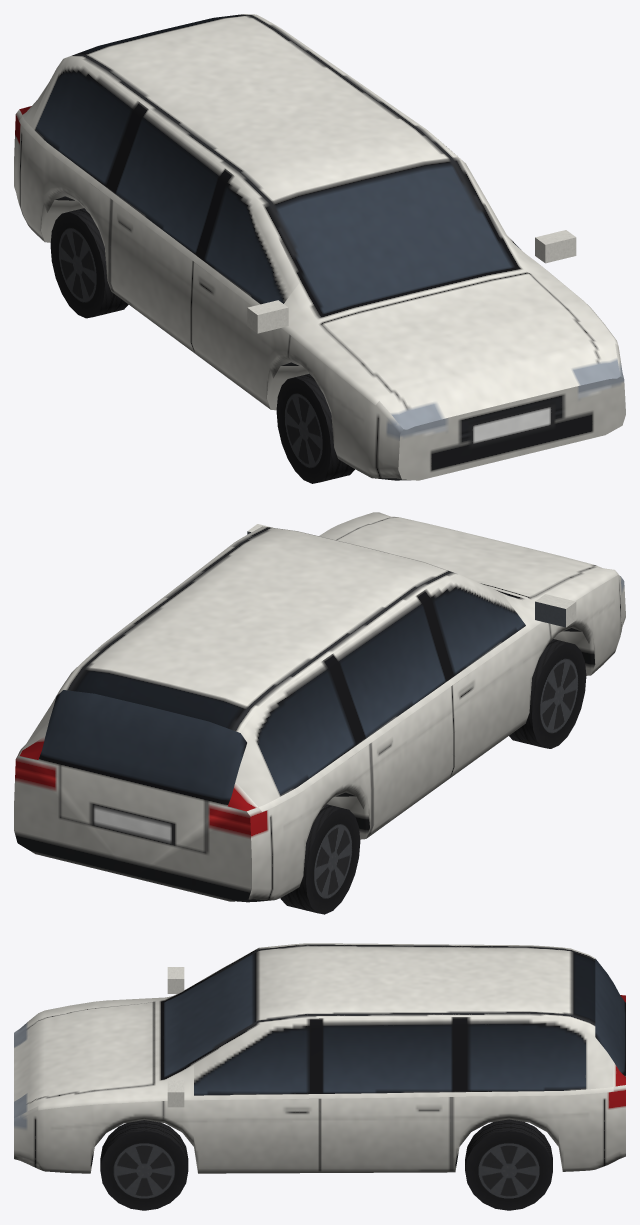
File: SM_Morin_Auto_C_Col_v2_BiancoPerla.fbx
3 renders of one model, top to bottom at view 1: azimuth 30°, elevation 25°; view 2: azimuth 150°, elevation 25°; view 3: azimuth 270°, elevation 25°, orthographic. The views are drawn at different scales.
Visible parts, largest first — view 1: SM_Morin_Auto_C_Col_v2_BiancoPerla; view 2: SM_Morin_Auto_C_Col_v2_BiancoPerla; view 3: SM_Morin_Auto_C_Col_v2_BiancoPerla.
Part boxes in pixels (x1,y1,x2,y2): SM_Morin_Auto_C_Col_v2_BiancoPerla: (14,14,625,483); SM_Morin_Auto_C_Col_v2_BiancoPerla: (14,512,625,914); SM_Morin_Auto_C_Col_v2_BiancoPerla: (14,943,625,1210).
Size of what is drawn, in the model's own units: 216 by 445 by 147.
Materials: 1 (1 with a texture image).
